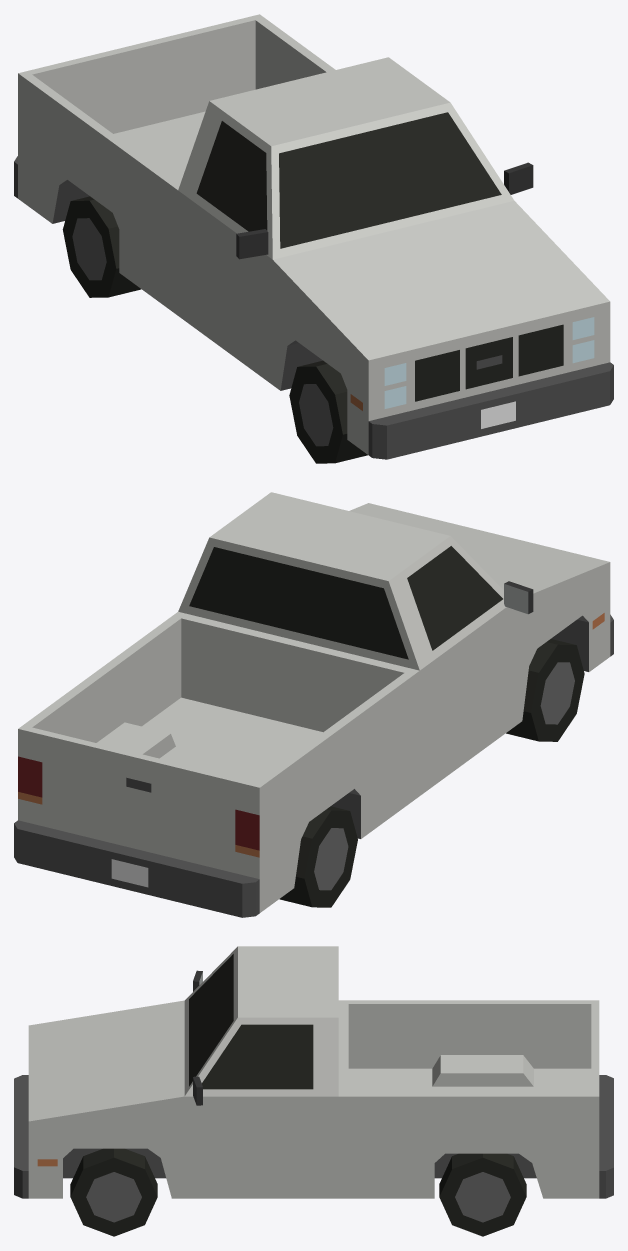
The model's file is Veh_Pickup_02_White.glb.
3 renders of one model, top to bottom at view 1: azimuth 30°, elevation 25°; view 2: azimuth 150°, elevation 25°; view 3: azimuth 270°, elevation 25°, orthographic. The views are drawn at different scales.
Parts seen in each view (by area): view 1: Pickup_02_White, Wheel_FR, Wheel_RR; view 2: Pickup_02_White, Wheel_FR, Wheel_RR; view 3: Pickup_02_White, Wheel_FL, Wheel_RL.
Boxes of the visible parts, <box> form: Pickup_02_White: <box>14,14,613,459</box>; Wheel_FR: <box>289,360,367,463</box>; Wheel_RR: <box>62,196,141,297</box>; Pickup_02_White: <box>14,492,613,917</box>; Wheel_FR: <box>506,639,584,741</box>; Wheel_RR: <box>279,806,357,907</box>; Pickup_02_White: <box>14,946,613,1198</box>; Wheel_FL: <box>70,1148,157,1236</box>; Wheel_RL: <box>439,1153,526,1236</box>.
Size of the model in its own units: 1.43 by 1.18 by 3.11.
1 material, 1 textured.
